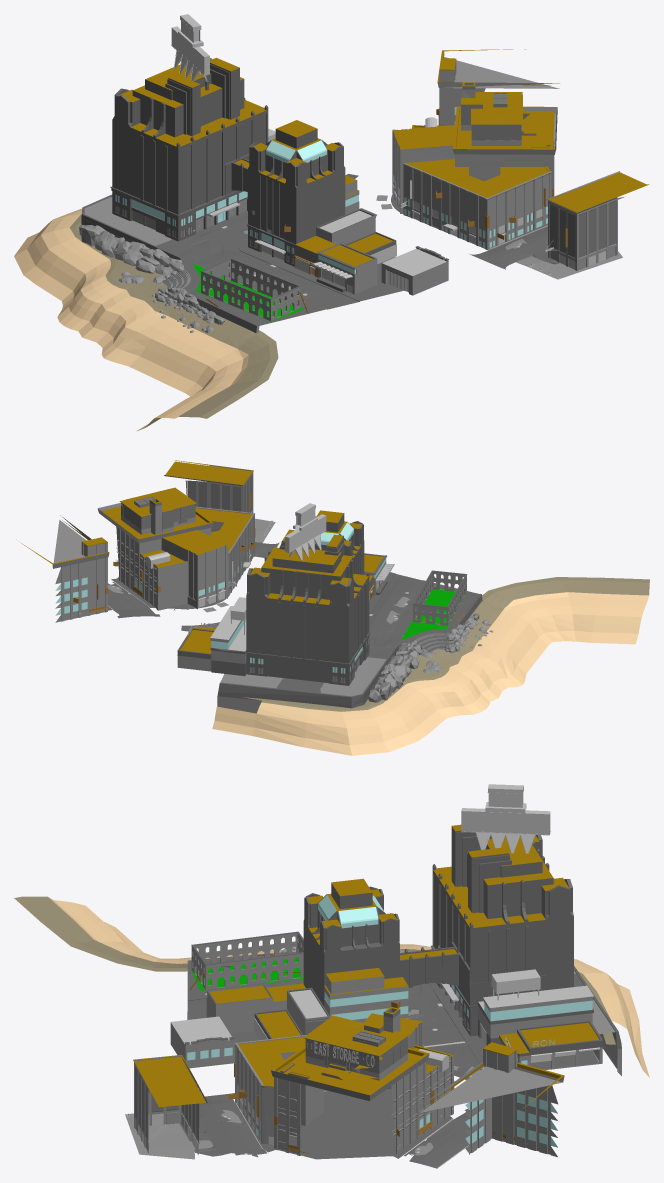
File: brook_n_8.FBX
The picture shows the model from 3 angles, top to bottom: view 1: azimuth 30°, elevation 25°; view 2: azimuth 150°, elevation 25°; view 3: azimuth 270°, elevation 25°; orthographic projection. The views are drawn at different scales.
Visible parts, largest first — view 1: unnamed, null; view 2: unnamed, null; view 3: unnamed, null.
Part boxes in pixels (x1=…): unnamed: x1=23, y1=14, x2=649, y2=431; null: x1=14, y1=186, x2=112, y2=274; unnamed: x1=20, y1=460, x2=649, y2=741; null: x1=216, y1=570, x2=417, y2=755; unnamed: x1=14, y1=784, x2=649, y2=1168; null: x1=549, y1=832, x2=642, y2=1068.
Size of the model in its own units: 204 by 79.54 by 172.
